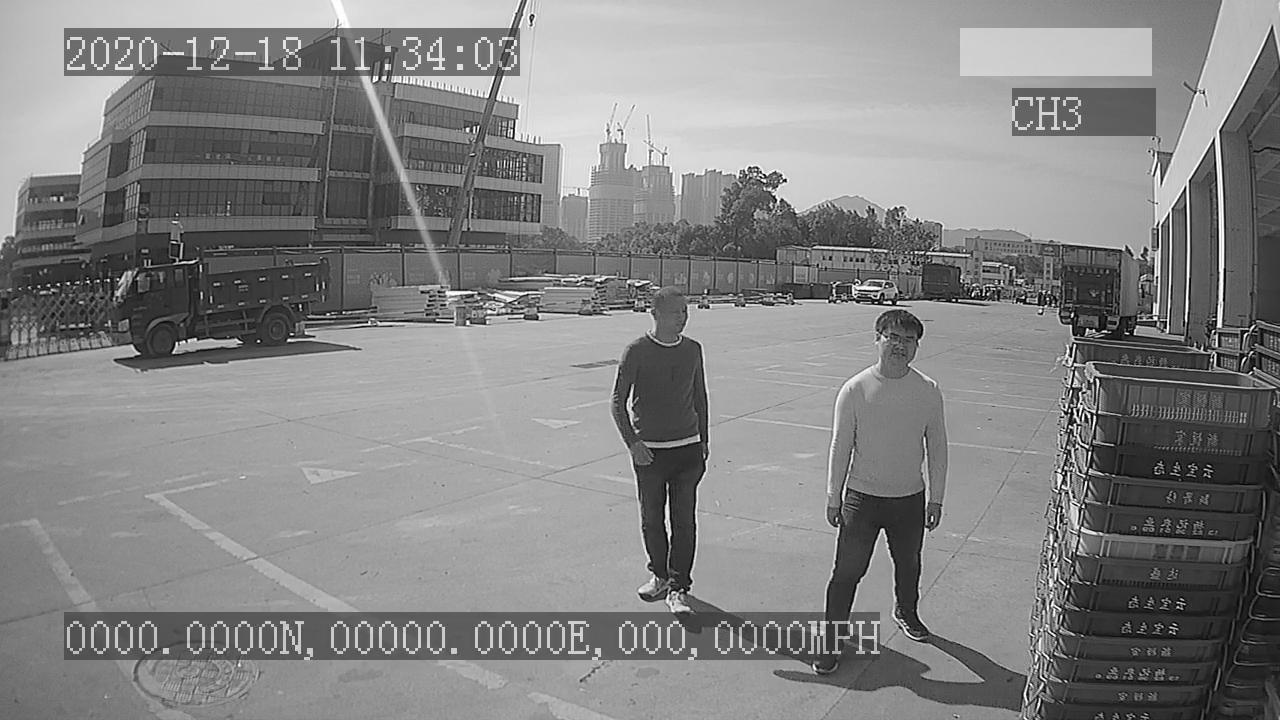person: (605, 284, 710, 612)
